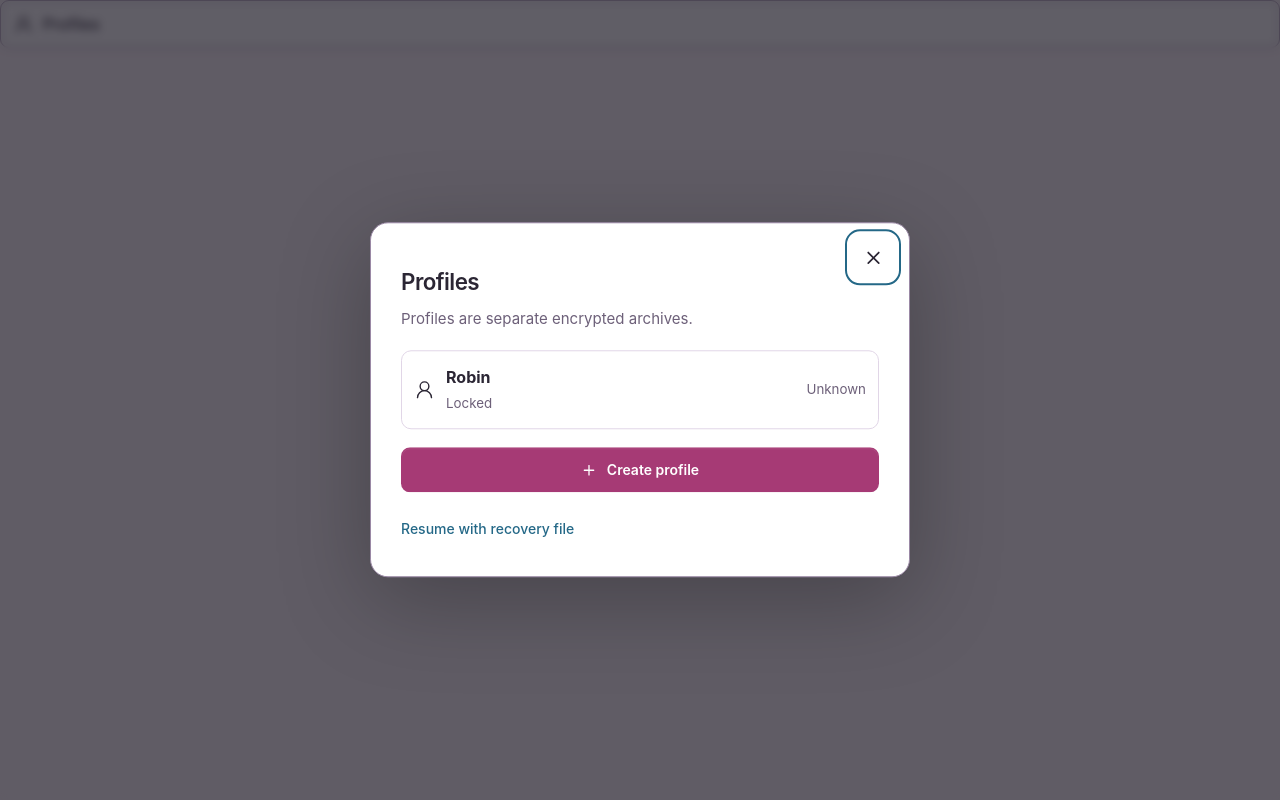
Test case: Back cancels the pending unlock and returns to the profile list
This screenshot has width=1280, height=800.
Click the button named "RobinLocked" at (468, 378), box [407, 357, 873, 424]
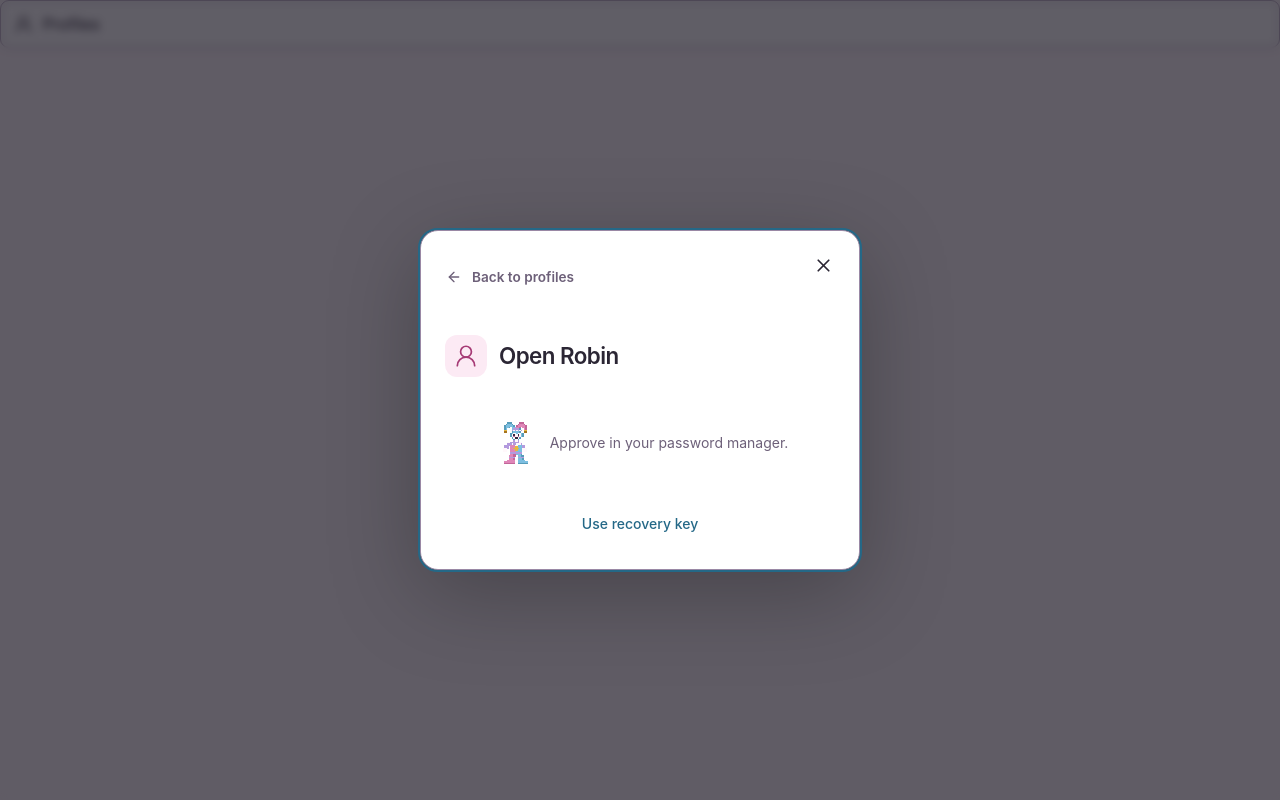
Click the button "Back to profiles" at (510, 277), box [445, 255, 575, 299]
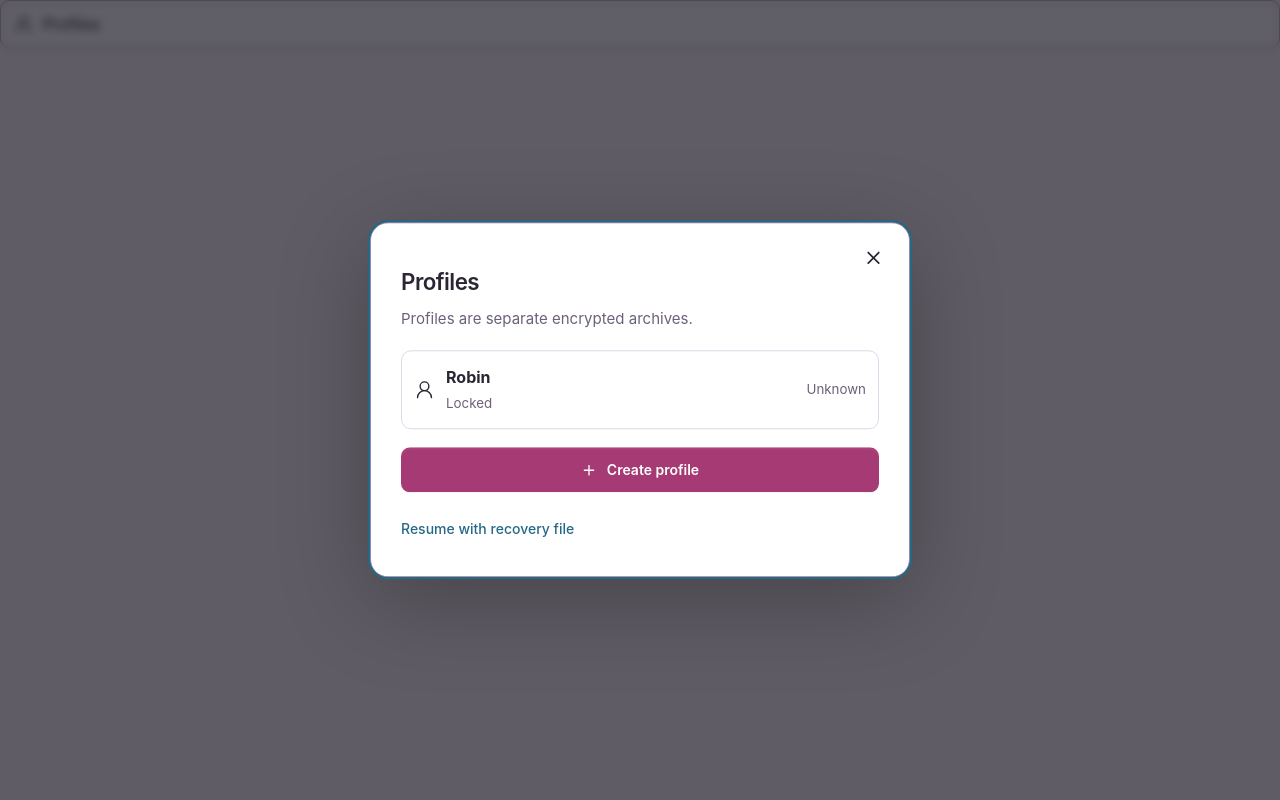
Now the heading "Profiles" is shown, box [401, 268, 479, 295]
